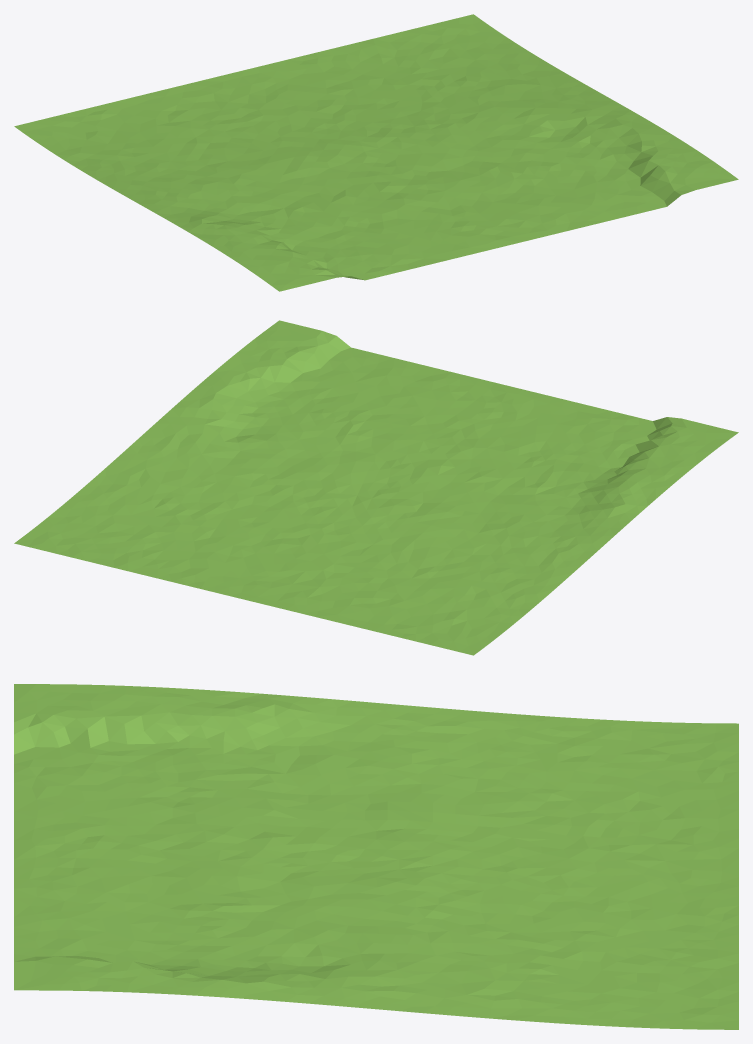
Rendered from MT_River_End_L_b_02_LOD.fbx.
3 views of the same model, one above another, from view 1: azimuth 30°, elevation 25°; view 2: azimuth 150°, elevation 25°; view 3: azimuth 270°, elevation 25° (orthographic). The views are drawn at different scales.
Visible parts, largest first — view 1: MT_River_End_L_b_02_LOD0; view 2: MT_River_End_L_b_02_LOD0; view 3: MT_River_End_L_b_02_LOD0.
Part boxes in pixels (x1,y1,x2,y2): MT_River_End_L_b_02_LOD0: (14, 14, 738, 291); MT_River_End_L_b_02_LOD0: (14, 320, 738, 655); MT_River_End_L_b_02_LOD0: (14, 684, 738, 1029).
Size of what is drawn, in the model's own units: 10000 by 611 by 10000.
